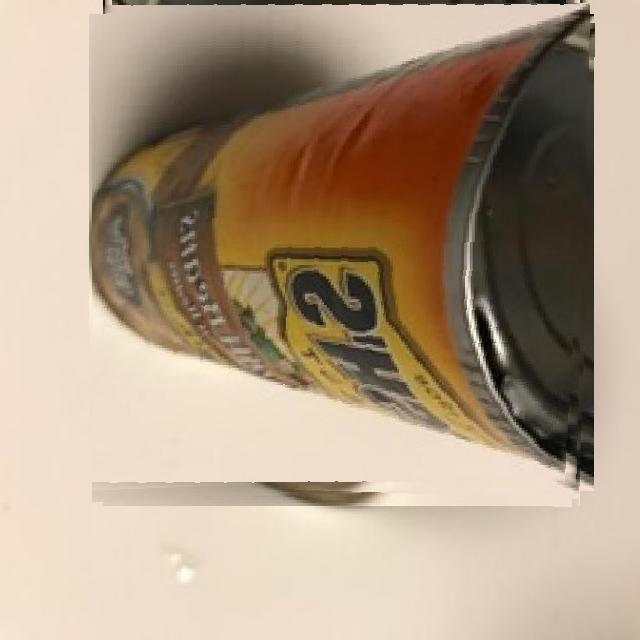recyclable: (92, 3, 591, 503)
